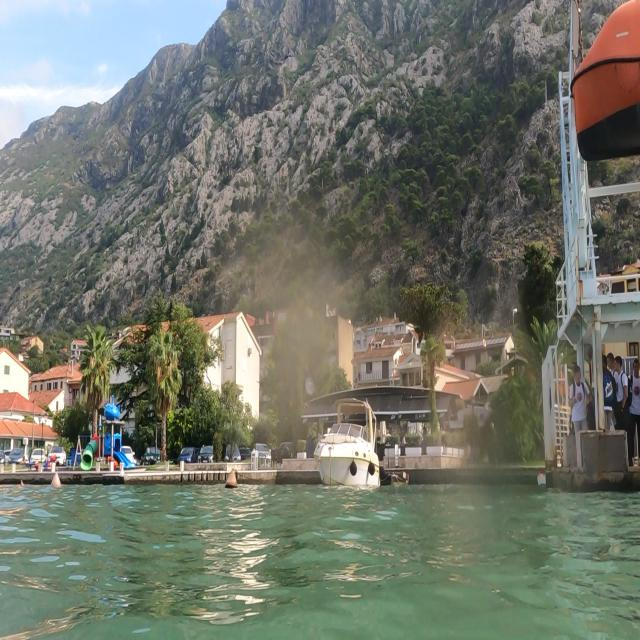boat: (312, 394, 382, 492)
buoy: (220, 466, 243, 496), (47, 468, 65, 497)
